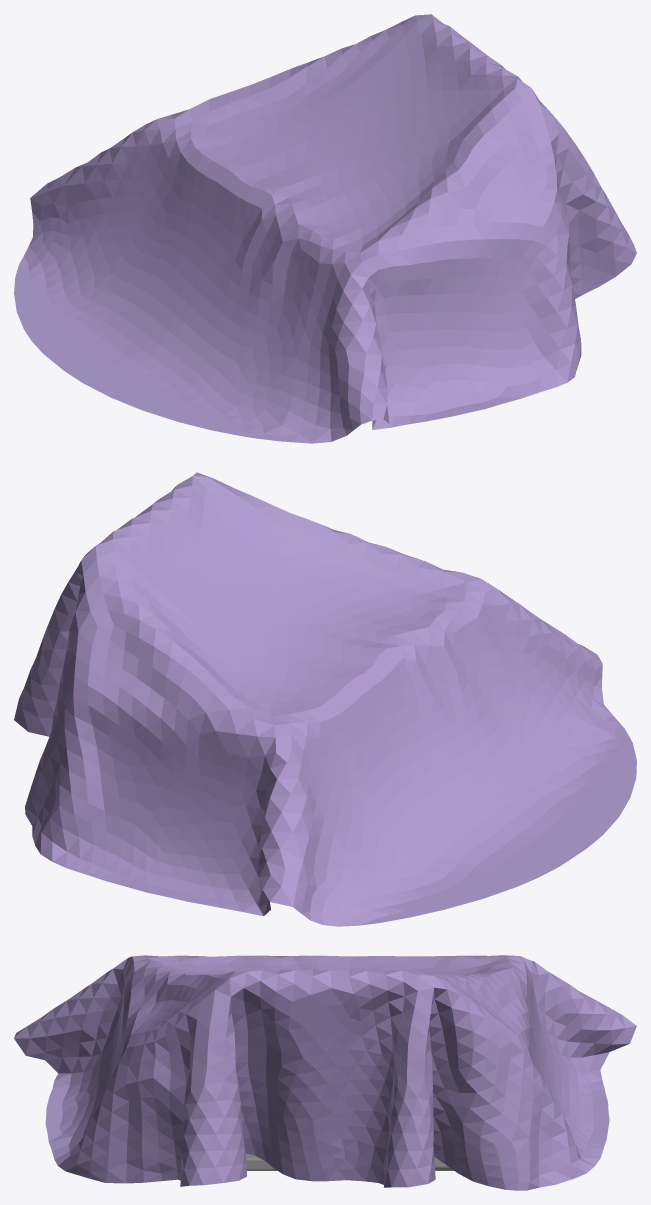
The model's file is level_1.glb.
The picture shows the model from 3 angles, top to bottom: view 1: azimuth 30°, elevation 25°; view 2: azimuth 150°, elevation 25°; view 3: azimuth 270°, elevation 25°; orthographic projection. The views are drawn at different scales.
Visible parts, largest first — view 1: world; view 2: world; view 3: world, object.obj.
Boxes of the visible parts, bbox=[...] form: world: bbox=[14, 14, 636, 443]; world: bbox=[14, 472, 636, 926]; world: bbox=[14, 955, 636, 1190]; object.obj: bbox=[245, 1153, 453, 1170].
Bounding box in the file's own units: 0.4585 × 0.1921 × 0.502.
